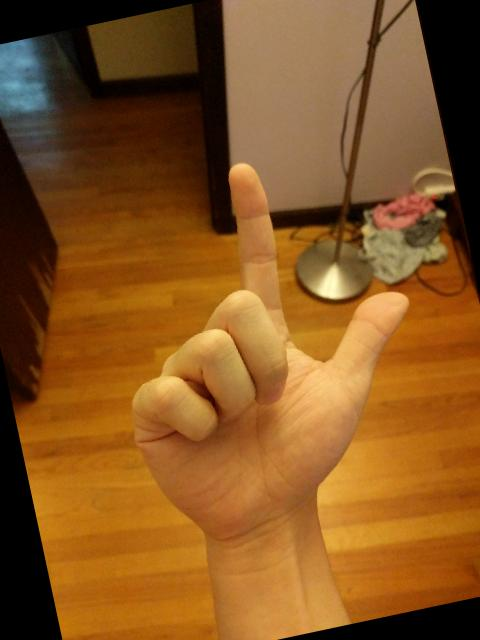L: (76, 127, 456, 557)
